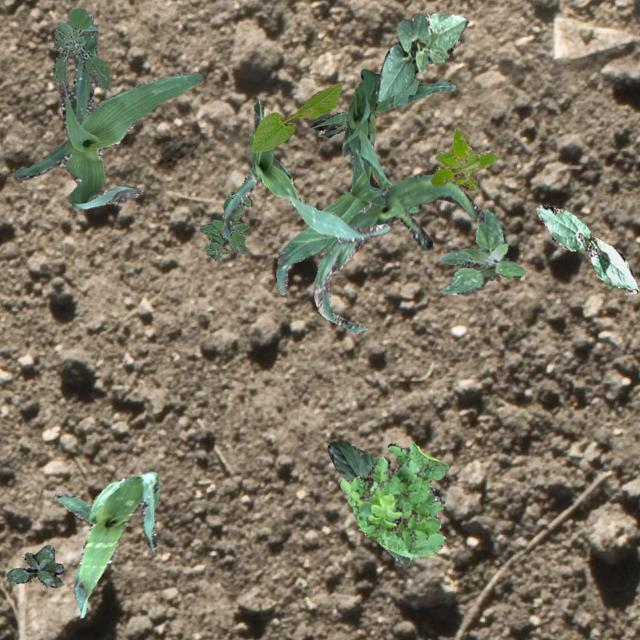crop: (13, 32, 200, 210), (312, 174, 484, 332), (220, 99, 388, 242), (310, 78, 454, 194), (276, 182, 420, 294), (53, 471, 159, 616), (326, 438, 410, 564), (534, 204, 638, 292), (376, 11, 468, 100), (340, 68, 390, 206), (250, 80, 342, 150)
weed: (338, 441, 448, 556), (438, 208, 522, 294), (52, 6, 110, 90), (430, 128, 498, 190), (198, 186, 250, 260), (5, 544, 62, 586)
